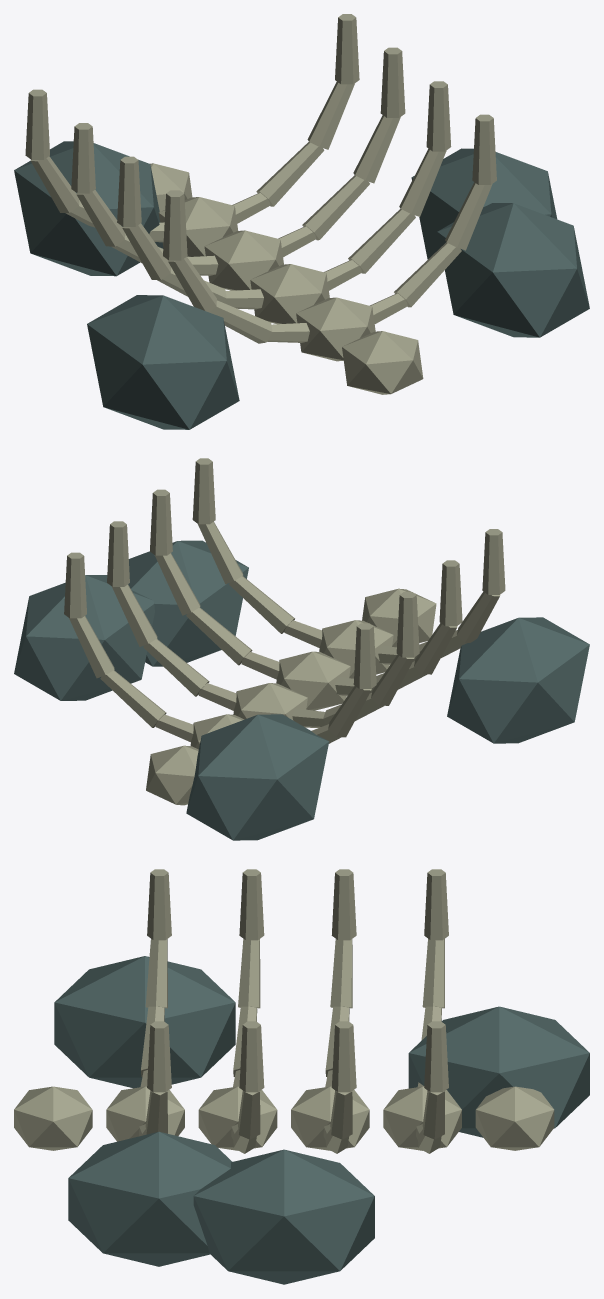
Rendered from sea_relic.glb.
3 renders of one model, top to bottom at view 1: azimuth 30°, elevation 25°; view 2: azimuth 150°, elevation 25°; view 3: azimuth 270°, elevation 25°, orthographic. The views are drawn at different scales.
Visible parts, largest first — view 1: vertebra; view 2: vertebra; view 3: vertebra.
Boxes of the visible parts, x1=… form: vertebra: x1=14, y1=14, x2=589, y2=429; vertebra: x1=14, y1=458, x2=589, y2=840; vertebra: x1=14, y1=869, x2=589, y2=1284.
Size of the model in its own units: 1.68 by 0.7079 by 1.62.
